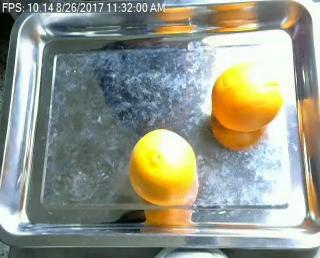Orange: (128, 127, 198, 206), (212, 65, 284, 132)
